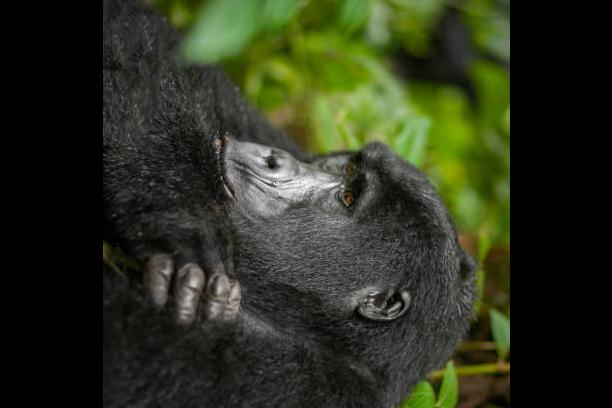goriile_montagne: (102, 35, 485, 408)
